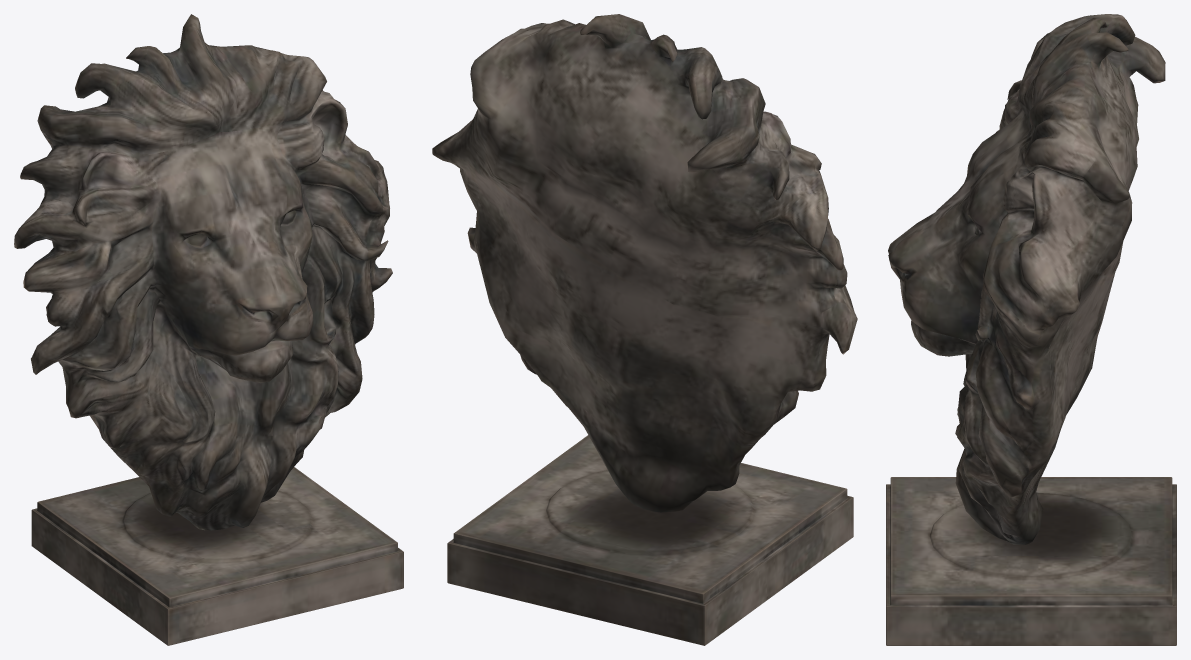
File: x_lion.glb
3 views of the same model, side by side, from view 1: azimuth 30°, elevation 25°; view 2: azimuth 150°, elevation 25°; view 3: azimuth 270°, elevation 25° (orthographic). The views are drawn at different scales.
Bounding box in the file's own units: 0.3196 × 0.4363 × 0.2066.
1 material, 1 textured.
